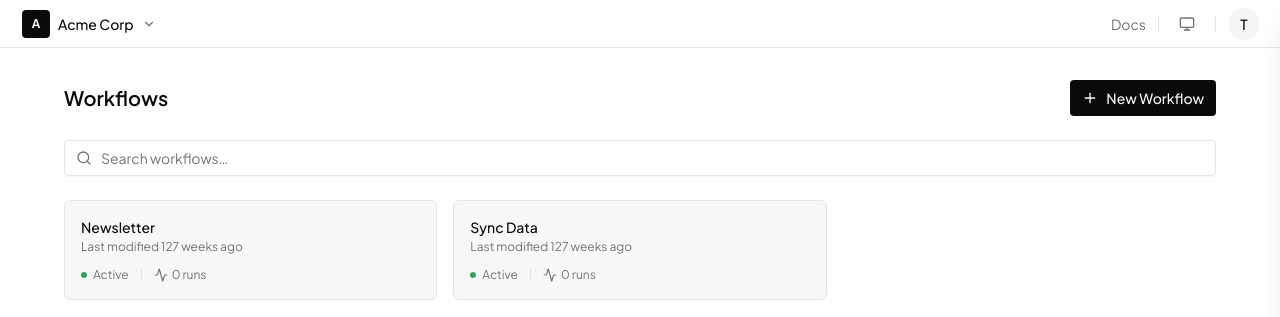
Test: DashboardPage › filters displayed cards by the search query
Check: the heading "Newsletter" is shown, box [81,218,155,236]
Step 1. Type "sync" into the field with placeholder "Search workflows…" → point(640, 158), box [64,140,1216,176]
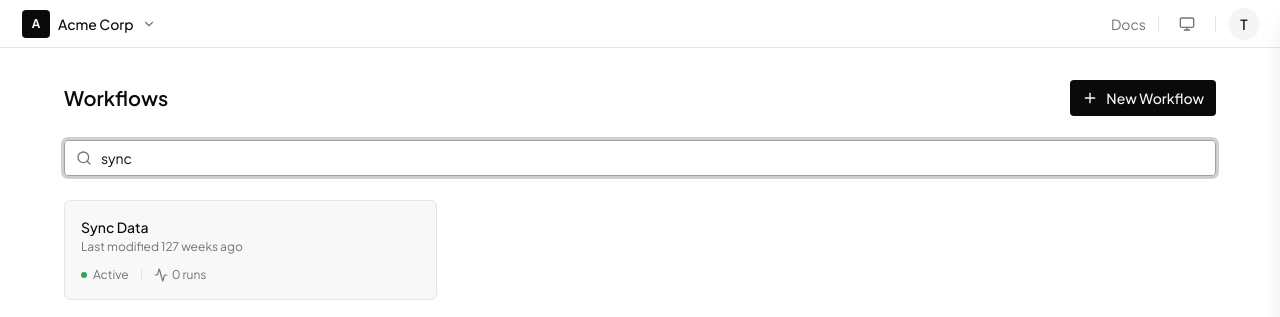
Check: the heading "Sync Data" is shown, box [81,218,148,236]
Check: the heading "Newsletter" is gone
